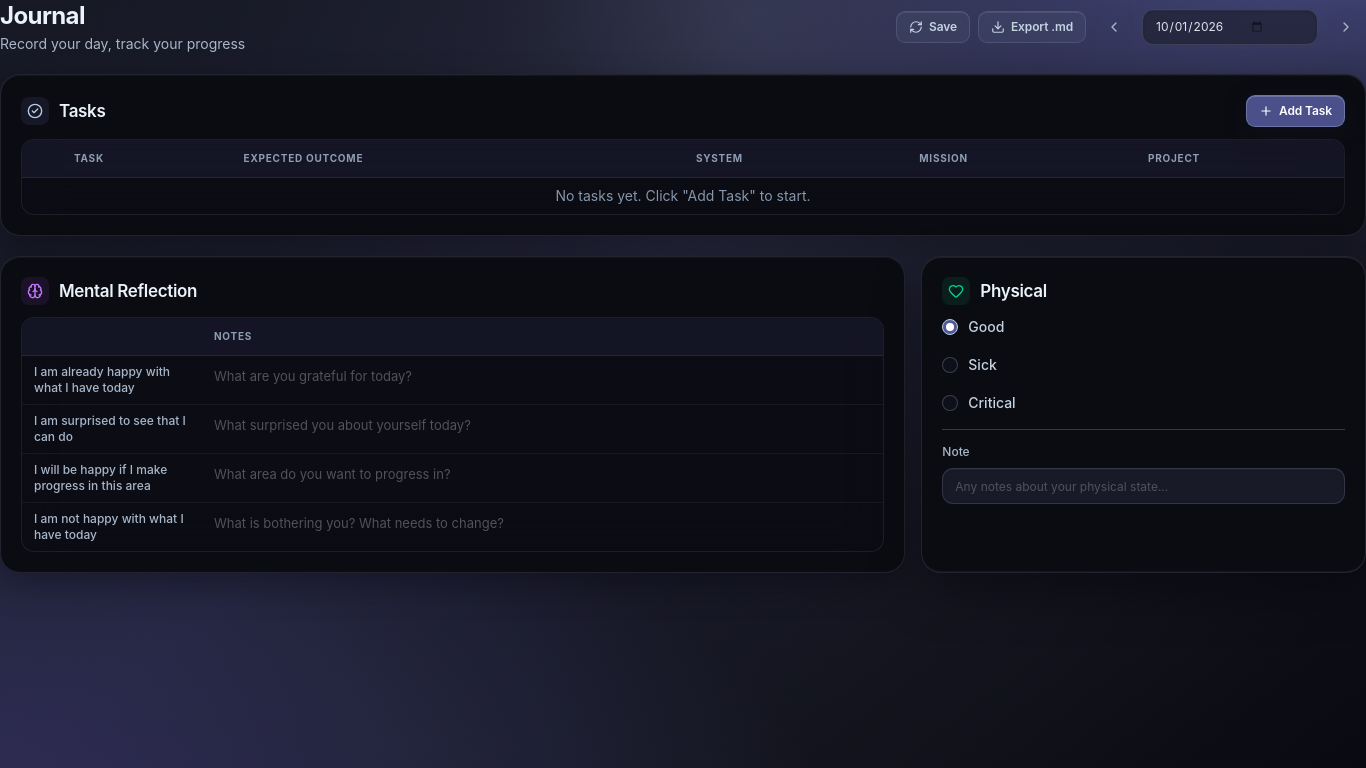
Test: Journal tasks in Studio › adds a new journal task to a Studio project's To Do column and keeps edits linked
Step 1. Click the button "Add Task" → (1296,111), box [1246,95,1345,127]
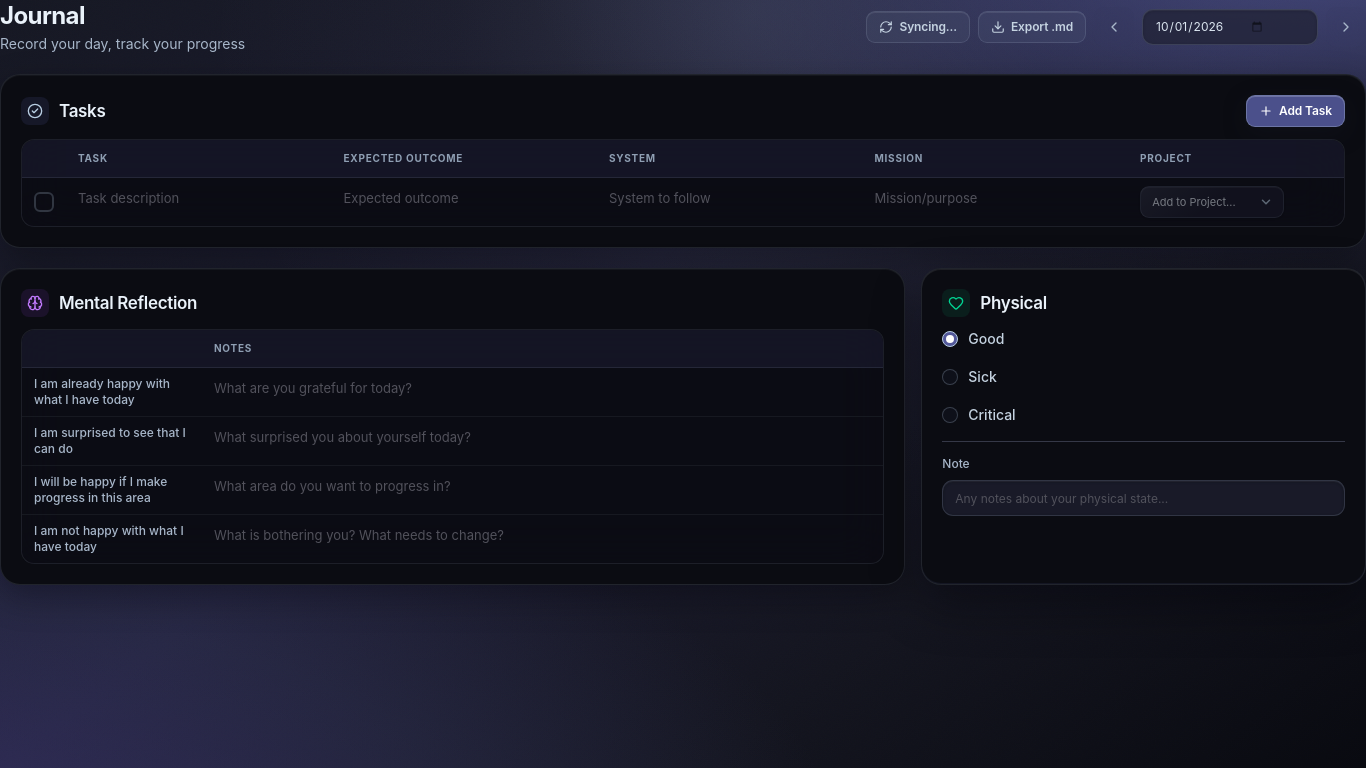
Step 2. Type "Prepare launch brief" into the text box with placeholder "Task description" → (199,199), box [78,189,320,209]
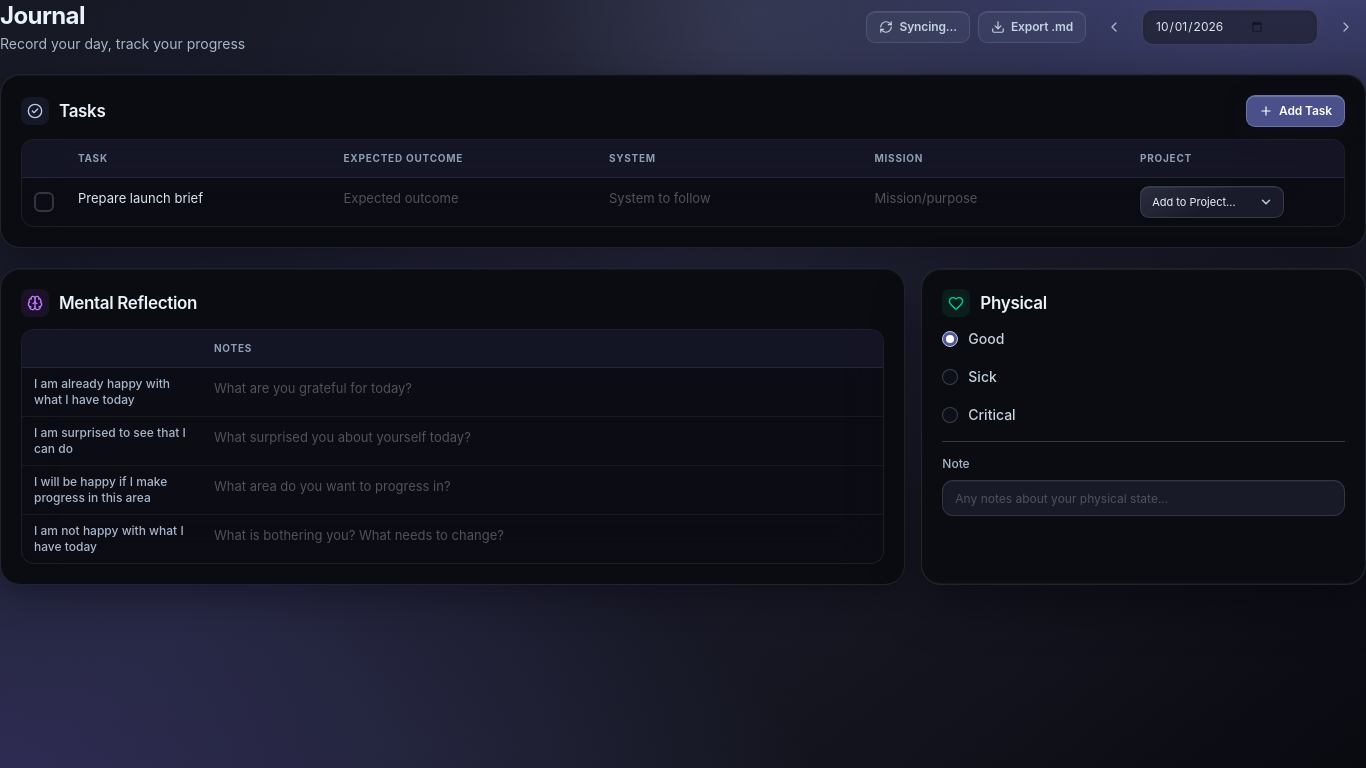
Step 3. Type "A brief the team can review" into the text box with placeholder "Expected outcome" → (464,199), box [344,189,585,209]
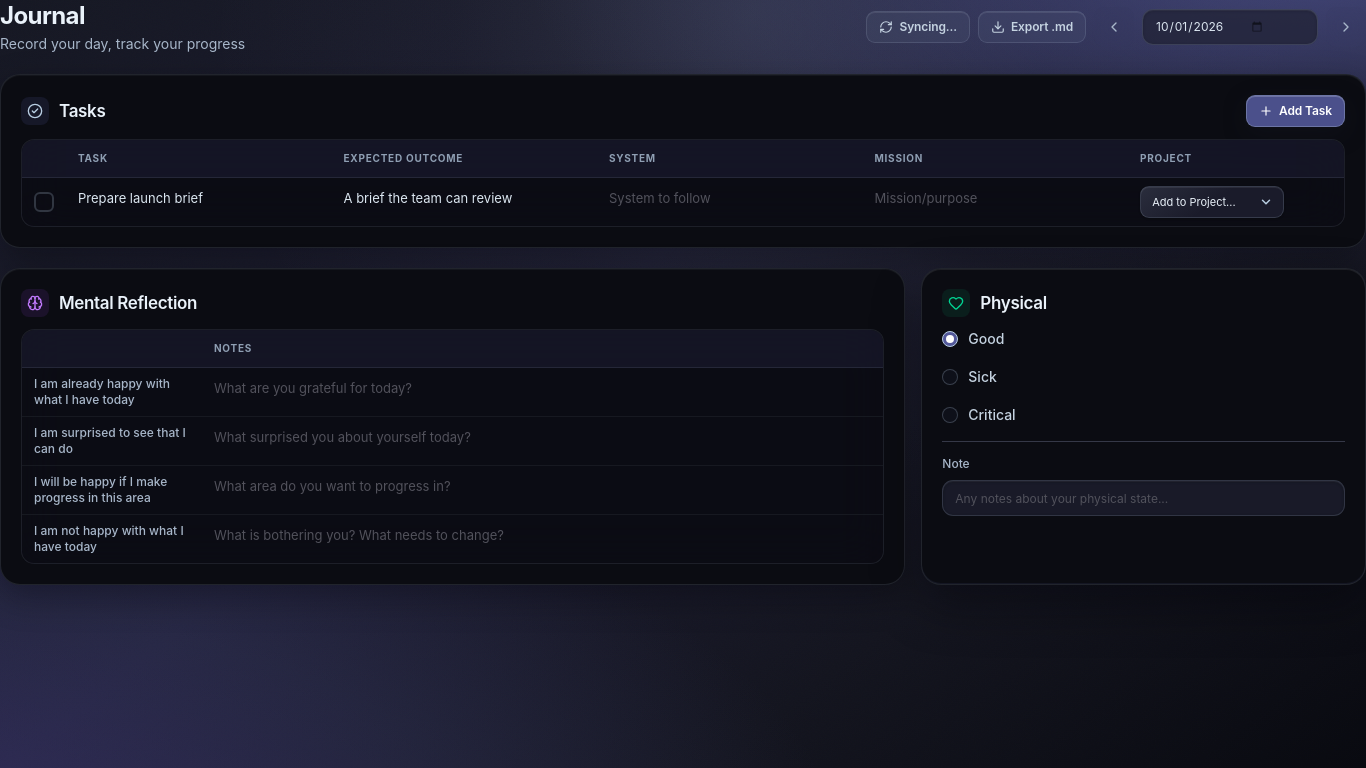
Step 4. Select "Launch Plan" in the dropdown named "Add Prepare launch brief to Project" → (1212,202), box [1140,186,1284,218]
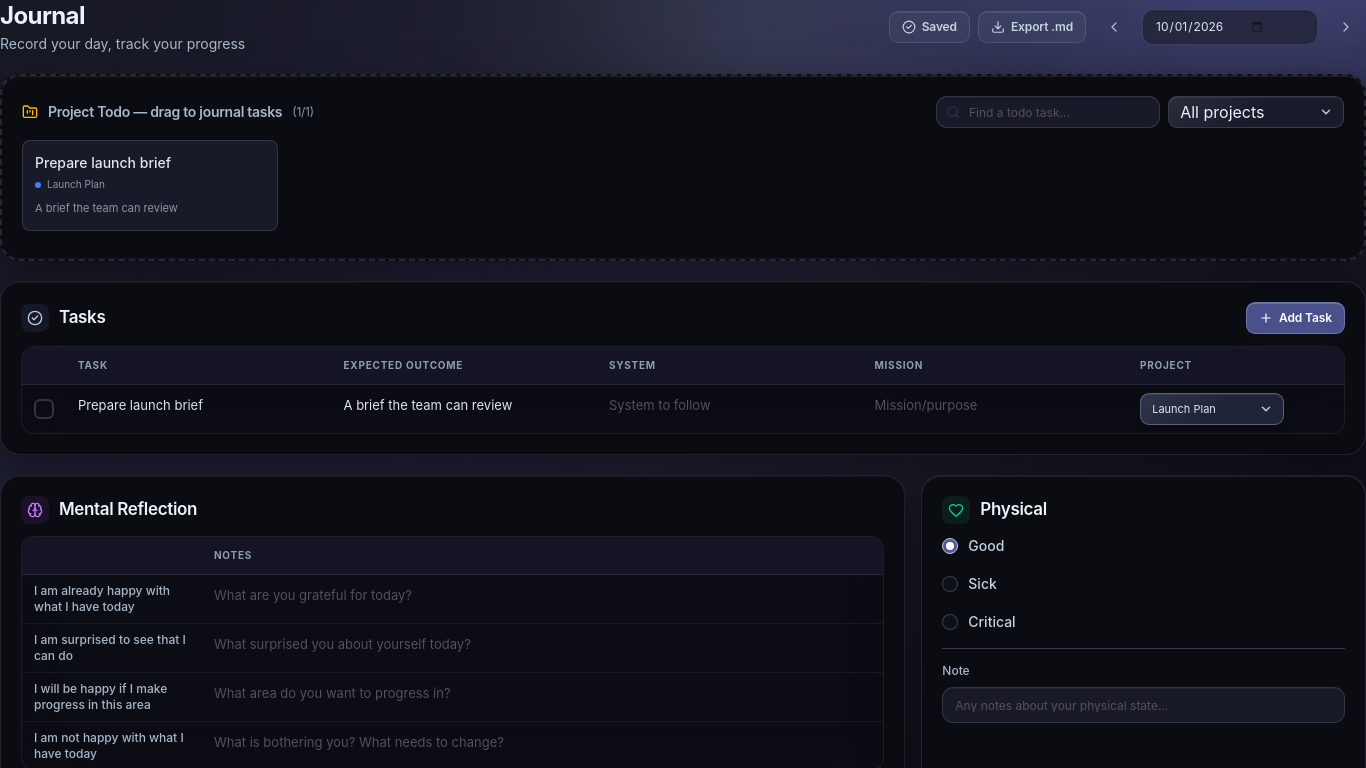
Step 5. Replace the text in the 1st text box with placeholder "Task description" with "Prepare final launch brief" → (199,406), box [78,396,320,416]
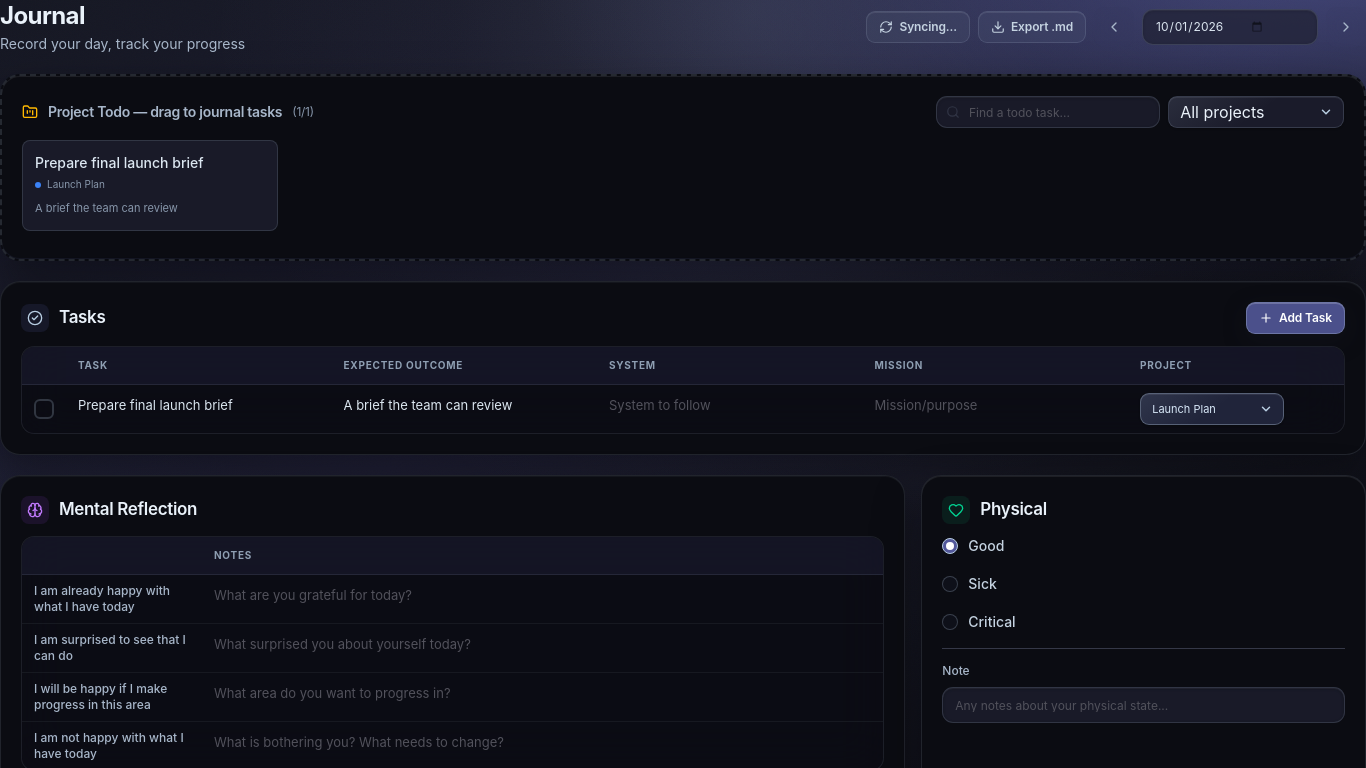
Step 6. Replace the text in the 2nd text box with placeholder "Expected outcome" with "An approved launch brief" → (464,406), box [344,396,585,416]
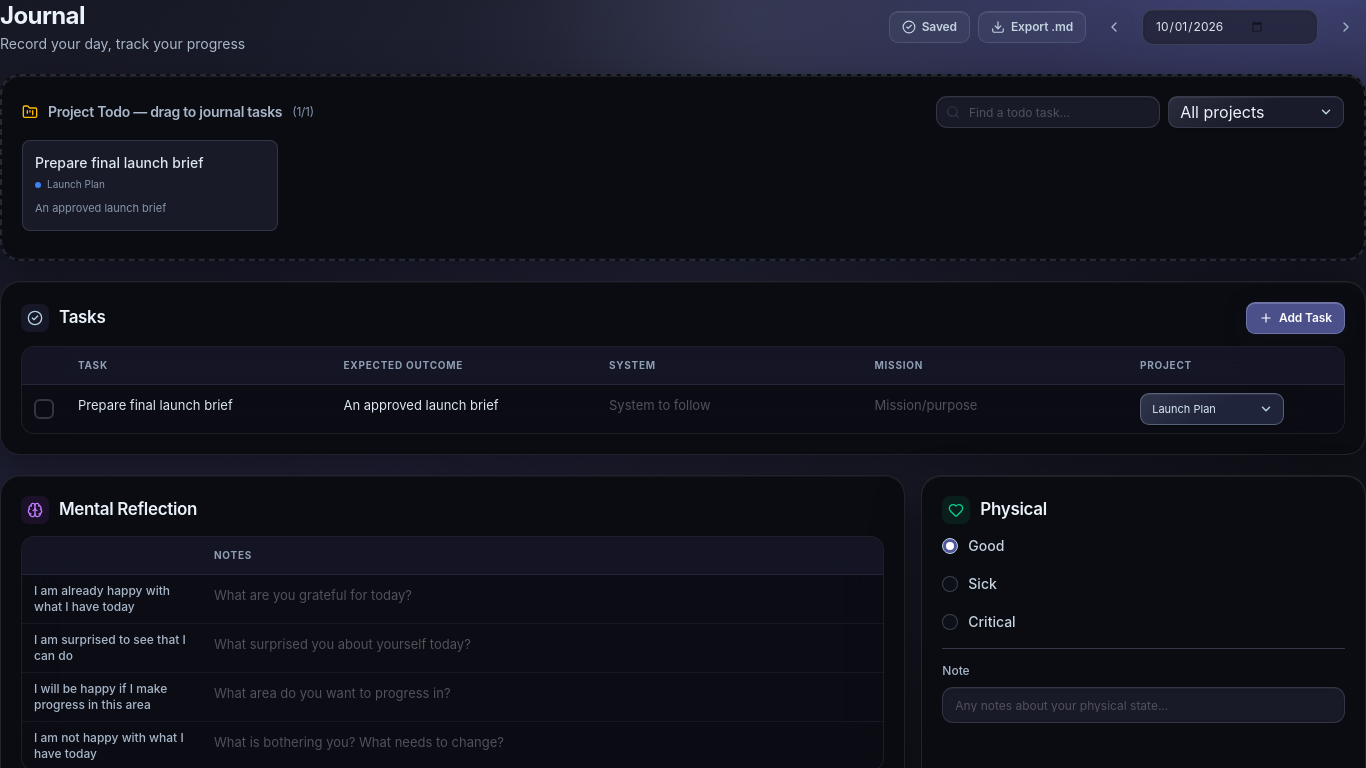
Result: the text "Prepare final launch brief" is shown at [35,153,204,173]
Result: the text "An approved launch brief" is shown at [35,201,166,215]
